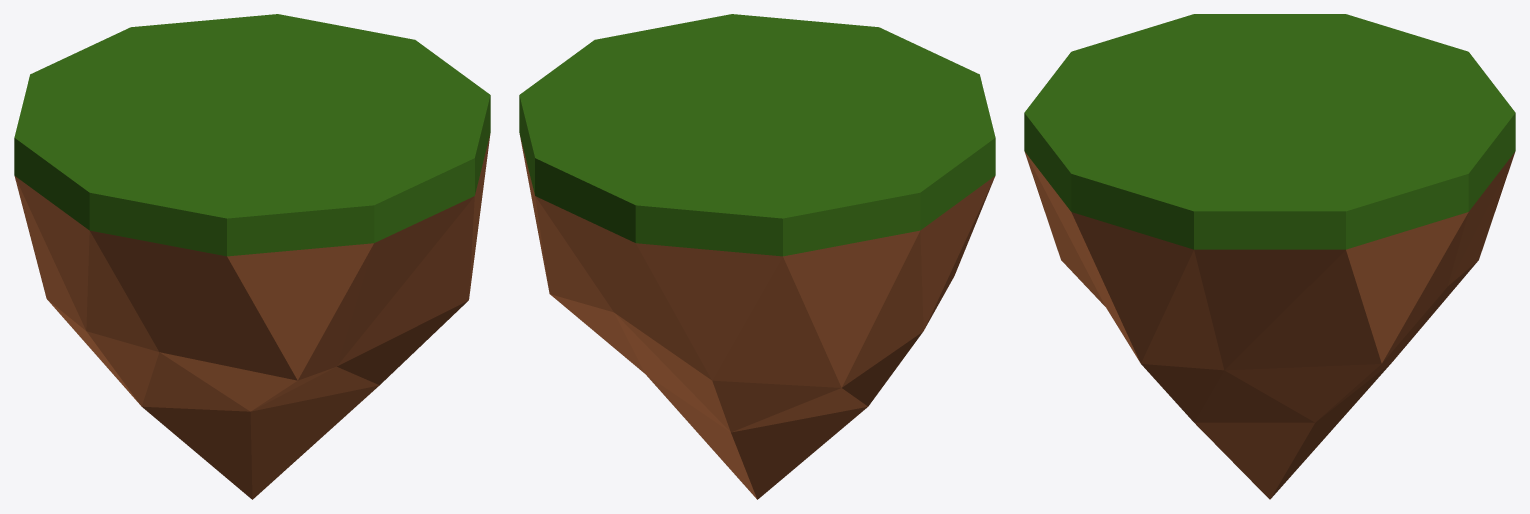
Rendered from template.glb.
3 views of the same model, side by side, from view 1: azimuth 30°, elevation 25°; view 2: azimuth 150°, elevation 25°; view 3: azimuth 270°, elevation 25° (orthographic).
Visible parts, largest first — view 1: Icosphere001, Icosphere; view 2: Icosphere001, Icosphere; view 3: Icosphere001, Icosphere.
Part boxes in pixels (<box>): Icosphere001: <box>14,14,490,256</box>; Icosphere: <box>14,134,490,499</box>; Icosphere001: <box>519,14,995,256</box>; Icosphere: <box>519,134,995,499</box>; Icosphere001: <box>1024,14,1515,249</box>; Icosphere: <box>1024,151,1515,499</box>.
Bounding box in the file's own units: 1.98 × 1.81 × 2.08.
